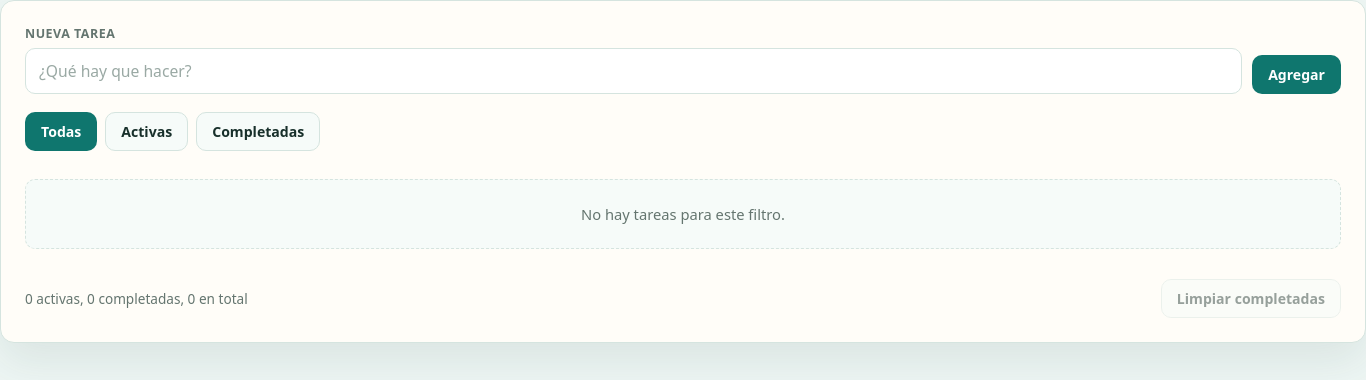
Test: TasksDashboard › actualiza los contadores al completar
The image size is (1366, 380).
Step 1. Type "Tarea uno" into the field labelled "Nueva tarea" → (634, 71), box [25, 48, 1242, 94]
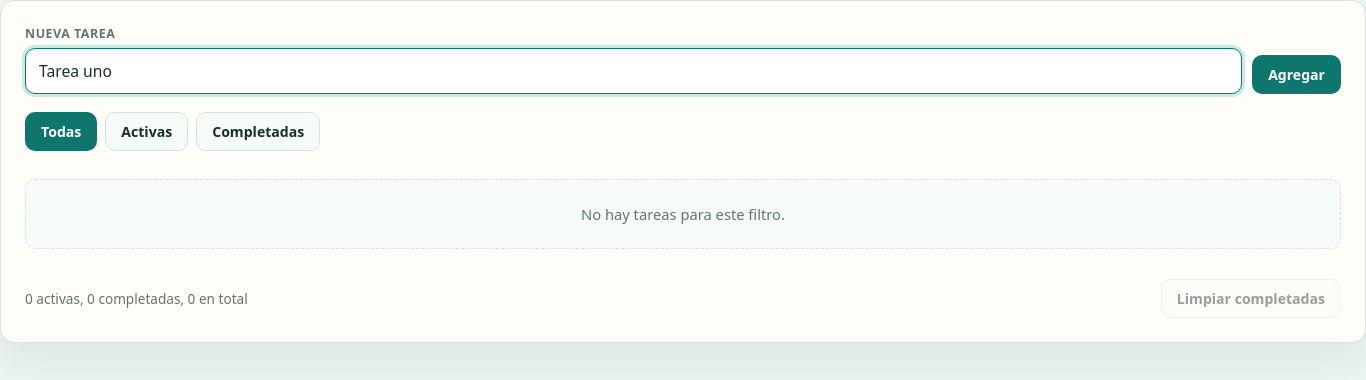
Step 2. Click the button "Agregar" → (1297, 74), box [1252, 55, 1341, 94]
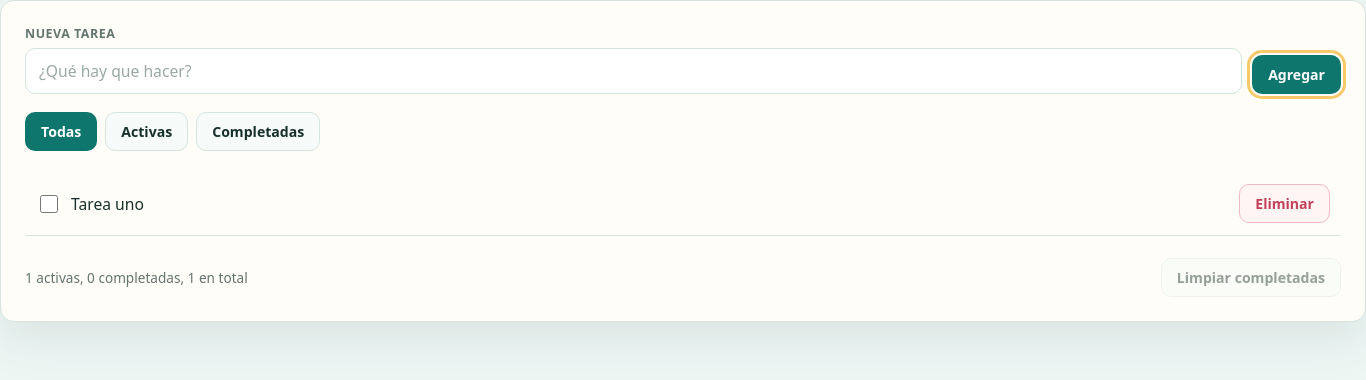
Step 3. Click the checkbox labelled "Tarea uno" → (49, 204), box [40, 194, 58, 212]
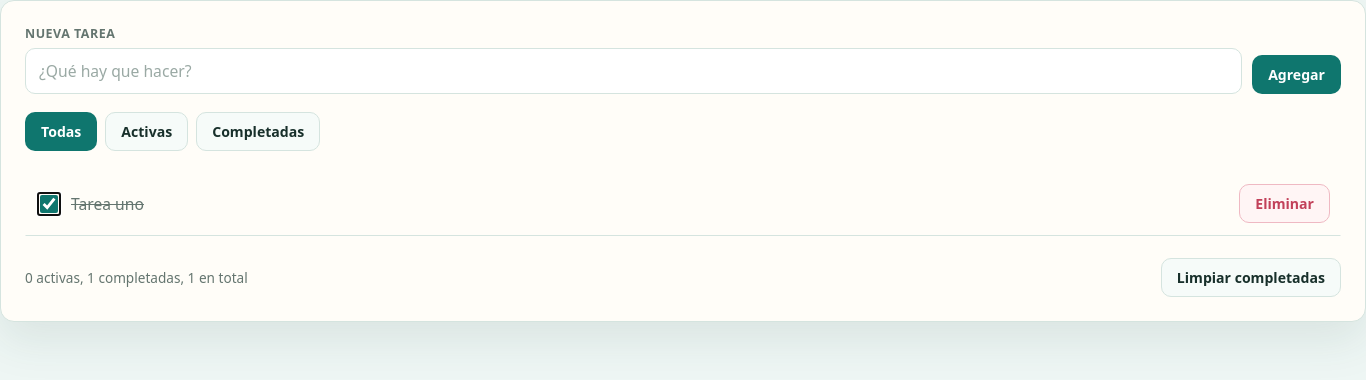
Check: the text "0 activas, 1 completadas, 1 en total" is shown, box [25, 268, 248, 287]
